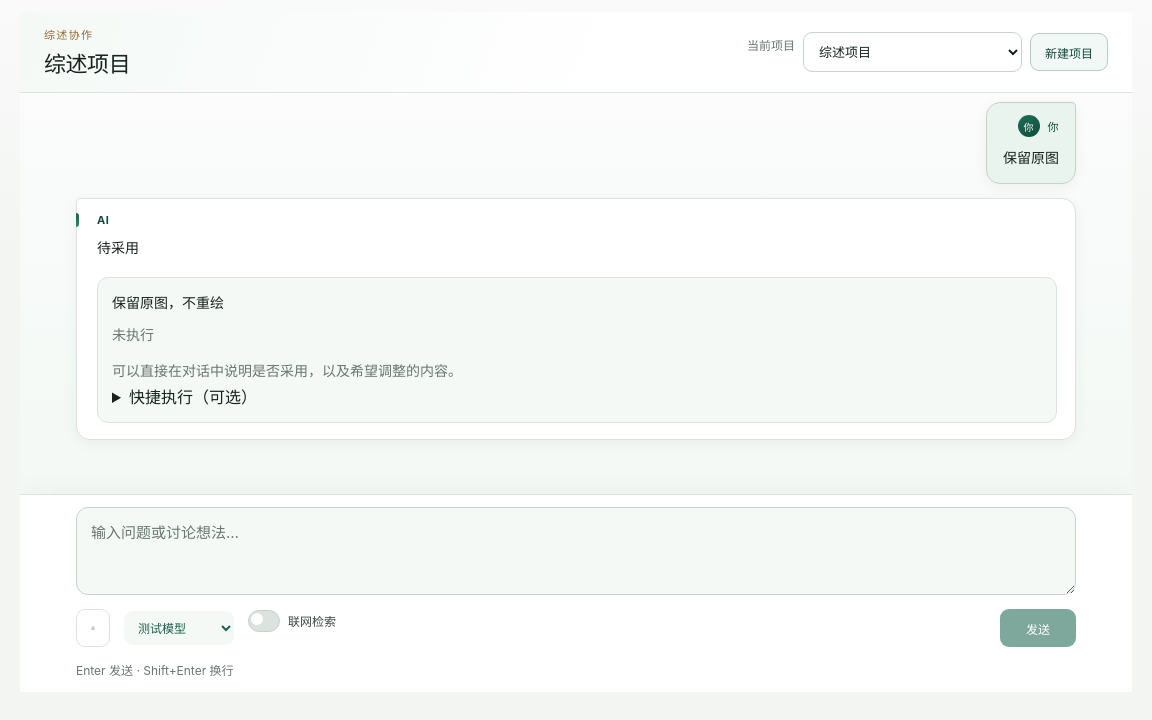
Test: project conversation › adopts the stored operation without a second model request
(page scrolled)
Click the heading "快捷执行（可选）".
click(193, 397)  # box [129,387,257,407]
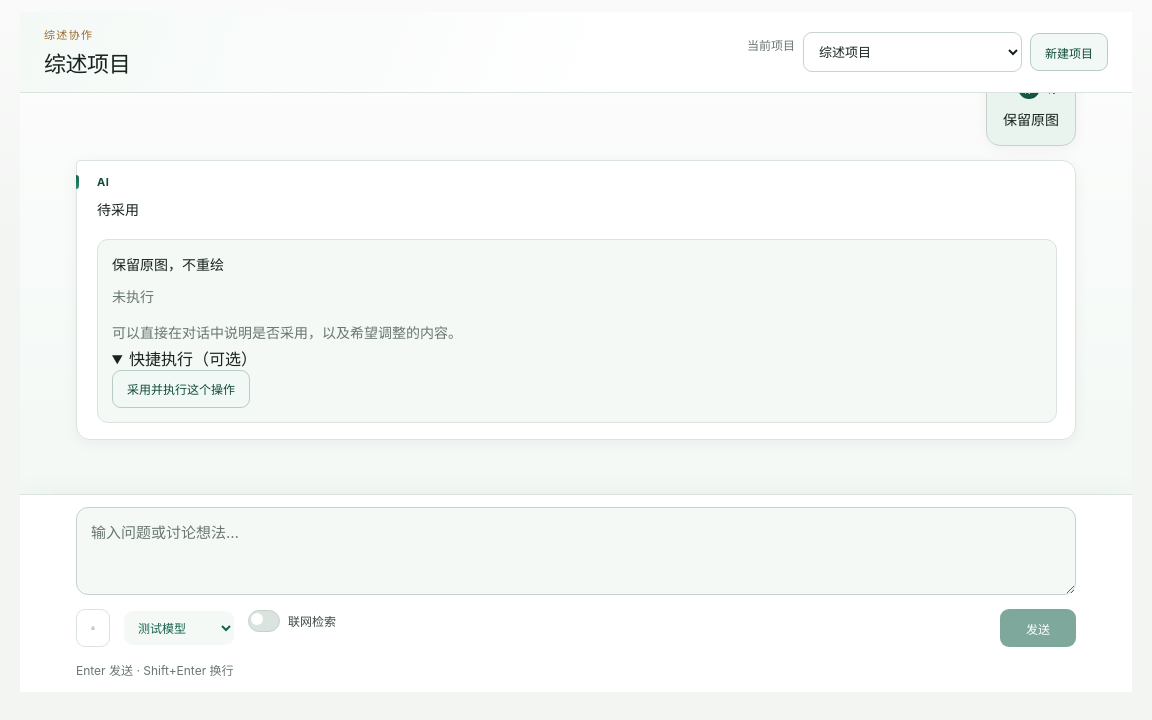
expect the button "采用并执行这个操作" is enabled: met
Click the button "采用并执行这个操作".
click(181, 389)  # box [112,370,250,408]
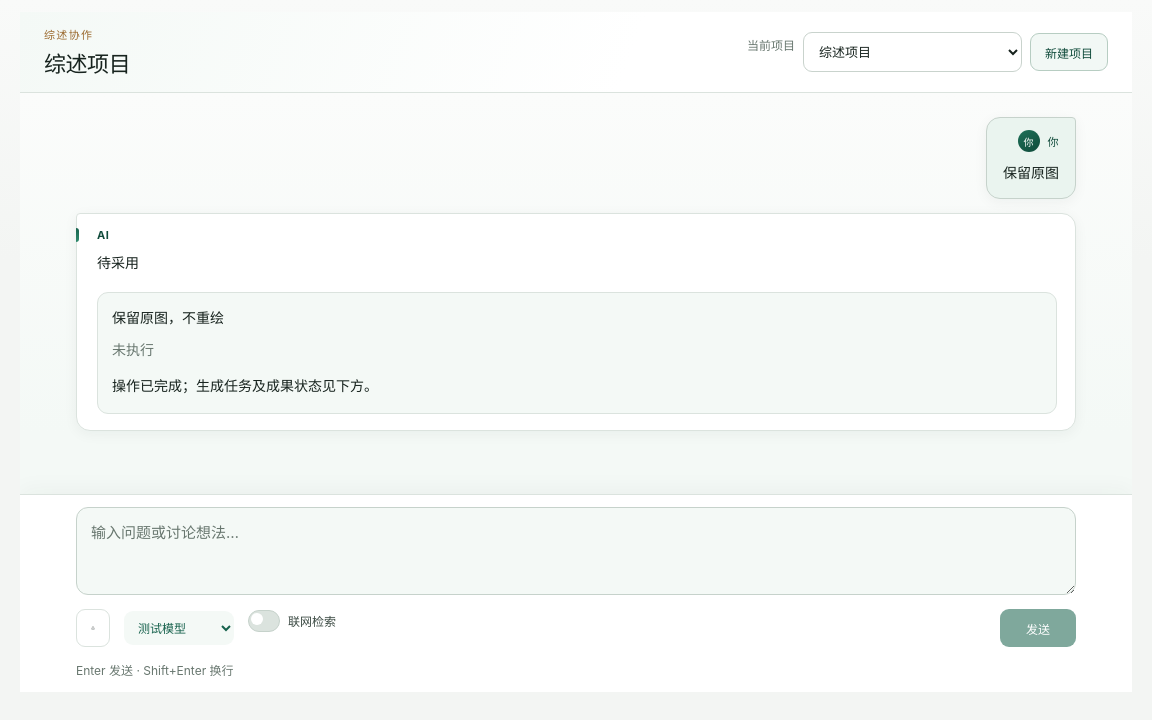
expect the text "操作已完成；生成任务及成果状态见下方。" is shown: met, box [112,377,378,394]
